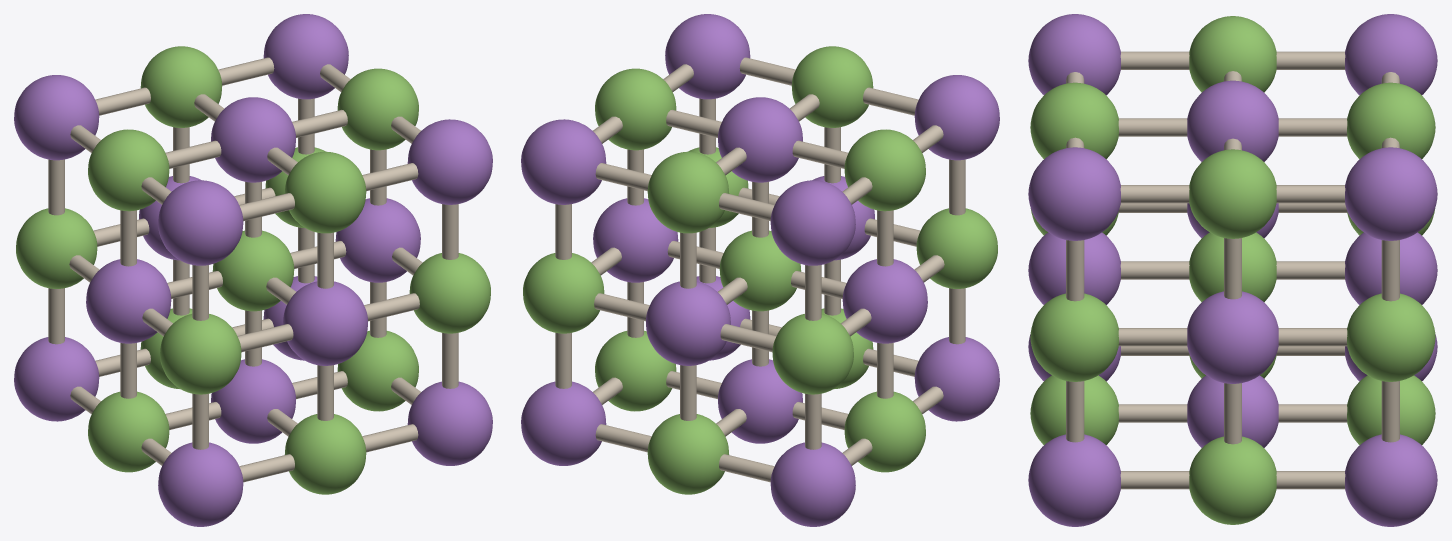
Rendered from sodium-chloride-lattice.glb.
3 renders of one model, left to right at view 1: azimuth 30°, elevation 25°; view 2: azimuth 150°, elevation 25°; view 3: azimuth 270°, elevation 25°, orthographic. The views are drawn at different scales.
Parts seen in each view (by area): view 1: atom-NA-8, atom-NA-2, atom-NA-26, atom-NA-14, atom-NA-20, atom-NA-6, atom-NA-0, atom-NA-4, atom-NA-16, atom-NA-24, atom-CL-5, atom-CL-17 (+49 smaller); view 2: atom-NA-6, atom-NA-0, atom-NA-24, atom-NA-12, atom-NA-18, atom-NA-8, atom-NA-2, atom-NA-4, atom-NA-16, atom-NA-26, atom-CL-3, atom-CL-15 (+49 smaller); view 3: atom-NA-24, atom-NA-26, atom-NA-18, atom-NA-20, atom-NA-22, atom-CL-25, atom-CL-21, atom-CL-23, atom-CL-19, atom-NA-6, atom-NA-8, atom-NA-16 (+36 smaller).
Part boxes in pixels (<box>): atom-NA-8: <box>158,180,243,265</box>; atom-NA-2: <box>158,442,243,526</box>; atom-NA-26: <box>407,119,492,204</box>; atom-NA-14: <box>283,281,367,365</box>; atom-NA-20: <box>407,381,492,465</box>; atom-NA-6: <box>14,75,99,160</box>; atom-NA-0: <box>14,337,99,421</box>; atom-NA-4: <box>86,259,171,343</box>; atom-NA-16: <box>211,97,295,182</box>; atom-NA-24: <box>263,14,348,99</box>; atom-CL-5: <box>160,314,241,394</box>; atom-CL-17: <box>284,151,366,233</box>; atom-NA-6: <box>770,180,855,265</box>; atom-NA-0: <box>770,442,855,526</box>; atom-NA-24: <box>521,119,606,204</box>; atom-NA-12: <box>646,281,730,365</box>; atom-NA-18: <box>521,381,606,465</box>; atom-NA-8: <box>914,75,999,160</box>; atom-NA-2: <box>914,337,999,421</box>; atom-NA-4: <box>842,259,927,343</box>; atom-NA-16: <box>718,97,802,182</box>; atom-NA-26: <box>665,14,750,99</box>; atom-CL-3: <box>772,314,853,394</box>; atom-CL-15: <box>647,151,729,233</box>; atom-NA-24: <box>1345,147,1437,240</box>; atom-NA-26: <box>1028,147,1120,240</box>; atom-NA-18: <box>1345,434,1437,526</box>; atom-NA-20: <box>1028,434,1120,526</box>; atom-NA-22: <box>1187,291,1278,383</box>; atom-CL-25: <box>1189,149,1276,238</box>; atom-CL-21: <box>1347,293,1435,381</box>; atom-CL-23: <box>1030,293,1118,381</box>; atom-CL-19: <box>1189,436,1276,524</box>; atom-NA-6: <box>1345,14,1437,95</box>; atom-NA-8: <box>1028,14,1120,95</box>; atom-NA-16: <box>1187,80,1278,161</box>.
Size of the model in its own units: 4.02 by 4.02 by 4.02.
